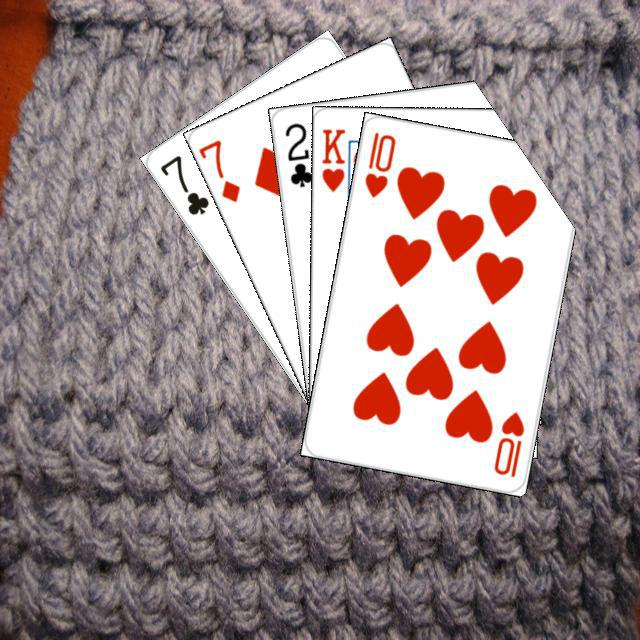10h: (359, 127, 398, 200), (489, 406, 526, 480)
2c: (280, 118, 314, 189)
7c: (154, 150, 211, 217)
7d: (195, 134, 242, 204)
Kh: (317, 124, 355, 200)
